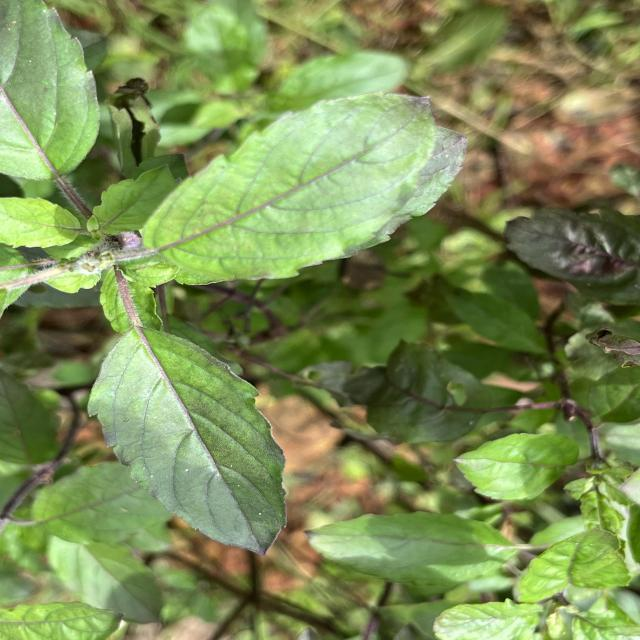Ocimum tenuiflorum: (84, 323, 290, 558)
